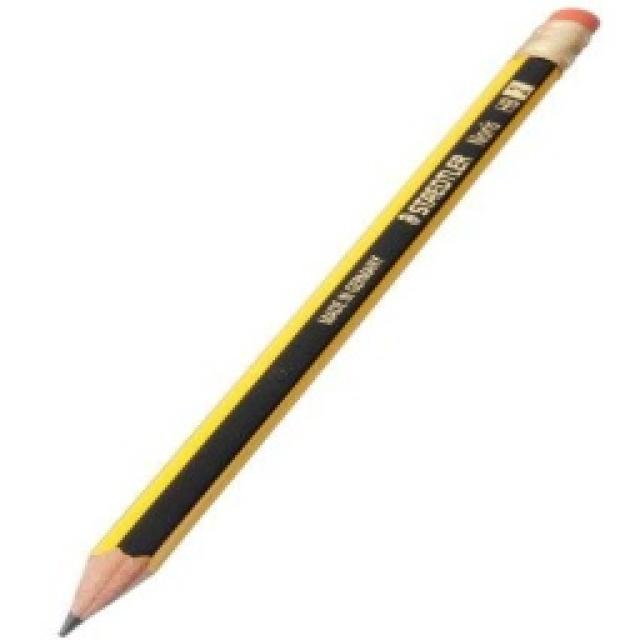pencil: (52, 2, 602, 638)
